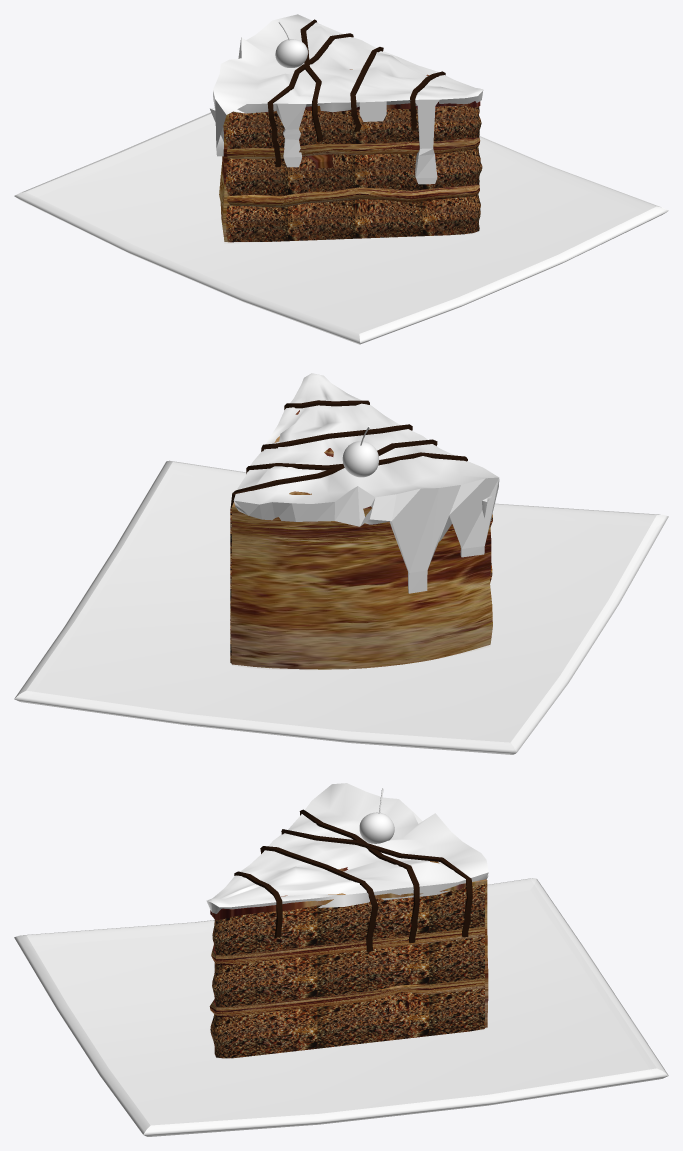
File: cake.glb
3 renders of one model, top to bottom at view 1: azimuth 30°, elevation 25°; view 2: azimuth 150°, elevation 25°; view 3: azimuth 270°, elevation 25°, orthographic. The views are drawn at different scales.
Visible parts, largest first — view 1: Box001, Group001, Cylinder001, Cylinder003, Cylinder005, Cylinder002, Cylinder004, Cylinder006, Plane003, Sphere001, Plane004, Plane002; view 2: Box001, Cylinder006, Group001, Sphere001, Plane004, Plane003, Plane002; view 3: Box001, Group001, Cylinder001, Cylinder003, Cylinder005, Cylinder002, Cylinder004, Cylinder006, Plane004, Plane003, Plane002, Sphere001 (+1 smaller).
Part boxes in pixels (x1,y1,x2,y2): Box001: (14, 112, 668, 344); Group001: (209, 14, 483, 184); Cylinder001: (226, 194, 480, 242); Cylinder003: (225, 147, 482, 195); Cylinder005: (225, 106, 481, 148); Cylinder002: (227, 184, 479, 207); Cylinder004: (226, 137, 480, 168); Cylinder006: (219, 69, 480, 241); Plane003: (267, 33, 353, 167); Sphere001: (275, 39, 307, 67); Plane004: (300, 19, 322, 142); Plane002: (350, 47, 383, 131); Box001: (14, 460, 668, 754); Cylinder006: (230, 410, 492, 669); Group001: (233, 373, 499, 593); Sphere001: (342, 441, 379, 477); Plane004: (230, 439, 437, 507); Plane003: (246, 452, 467, 473); Plane002: (261, 424, 412, 451); Box001: (14, 878, 668, 1136); Group001: (206, 783, 488, 913); Cylinder001: (210, 988, 484, 1058); Cylinder003: (212, 936, 484, 1007); Cylinder005: (212, 884, 484, 955); Cylinder002: (209, 978, 484, 1017); Cylinder004: (211, 926, 484, 965); Cylinder006: (210, 861, 488, 1027); Plane004: (281, 829, 472, 937); Plane003: (299, 809, 419, 943); Plane002: (260, 846, 378, 951); Sphere001: (359, 812, 394, 843).
Bounding box in the file's own units: 0.2049 × 0.0807 × 0.2217.
6 materials, 2 textured.
